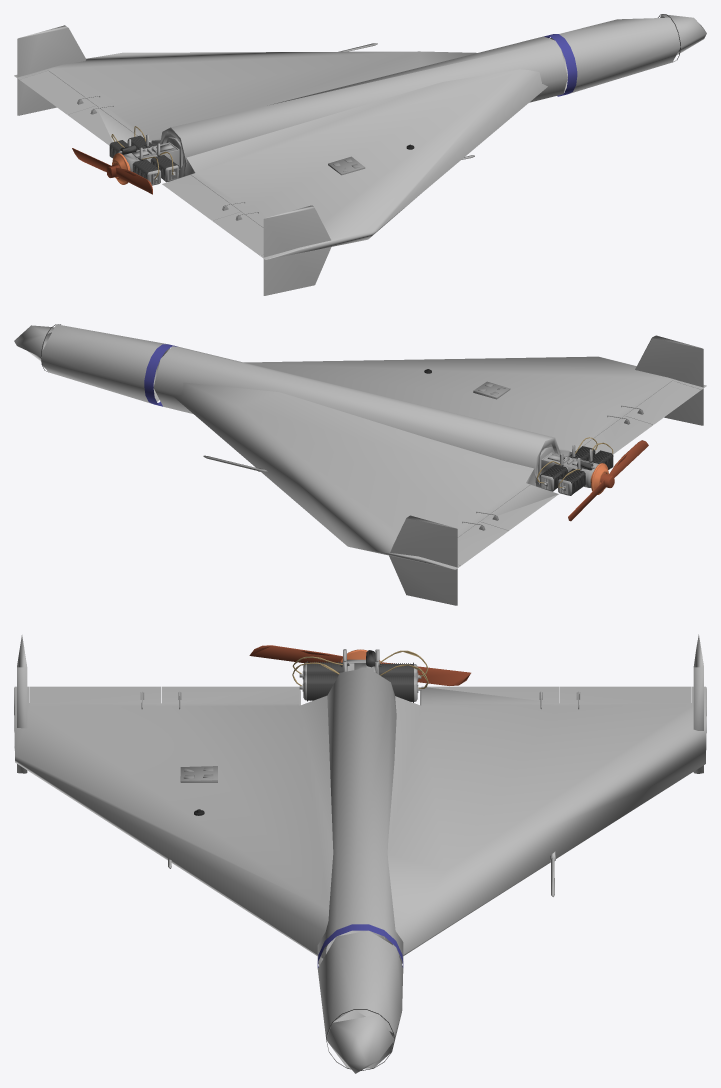
File: Shahed136_faintastic_card.glb
3 views of the same model, one above another, from view 1: azimuth 30°, elevation 25°; view 2: azimuth 150°, elevation 25°; view 3: azimuth 270°, elevation 25° (orthographic). The views are drawn at different scales.
Parts seen in each view (by area): view 1: A_Shahed; view 2: A_Shahed; view 3: A_Shahed.
Part boxes in pixels (x1,y1,x2,y2): A_Shahed: [14, 14, 706, 295]; A_Shahed: [14, 324, 706, 605]; A_Shahed: [14, 634, 706, 1073].
Size of the model in its own units: 0.0299 by 0.00373 by 0.0219.
